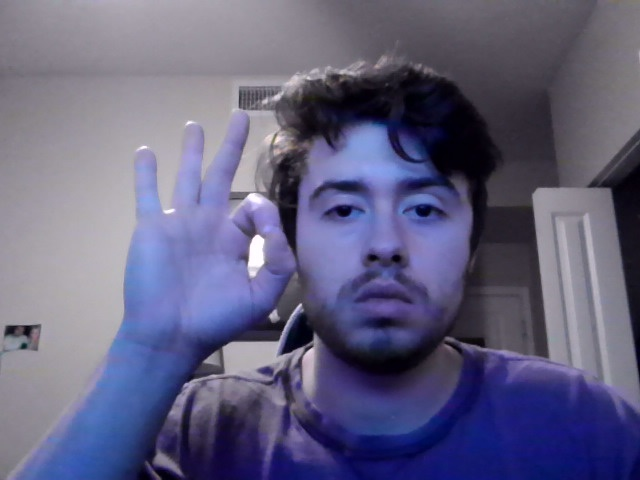f: (121, 108, 297, 364)
